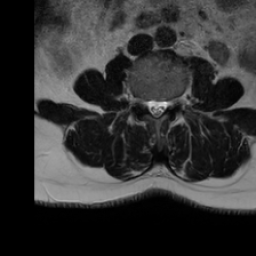CCS_normal: (152, 91, 160, 122)
LFS_normal: (168, 89, 176, 112)
LLS_normal: (160, 91, 168, 118)
RFS_stenosis: (137, 89, 145, 111)
RLS_normal: (145, 93, 152, 117)
